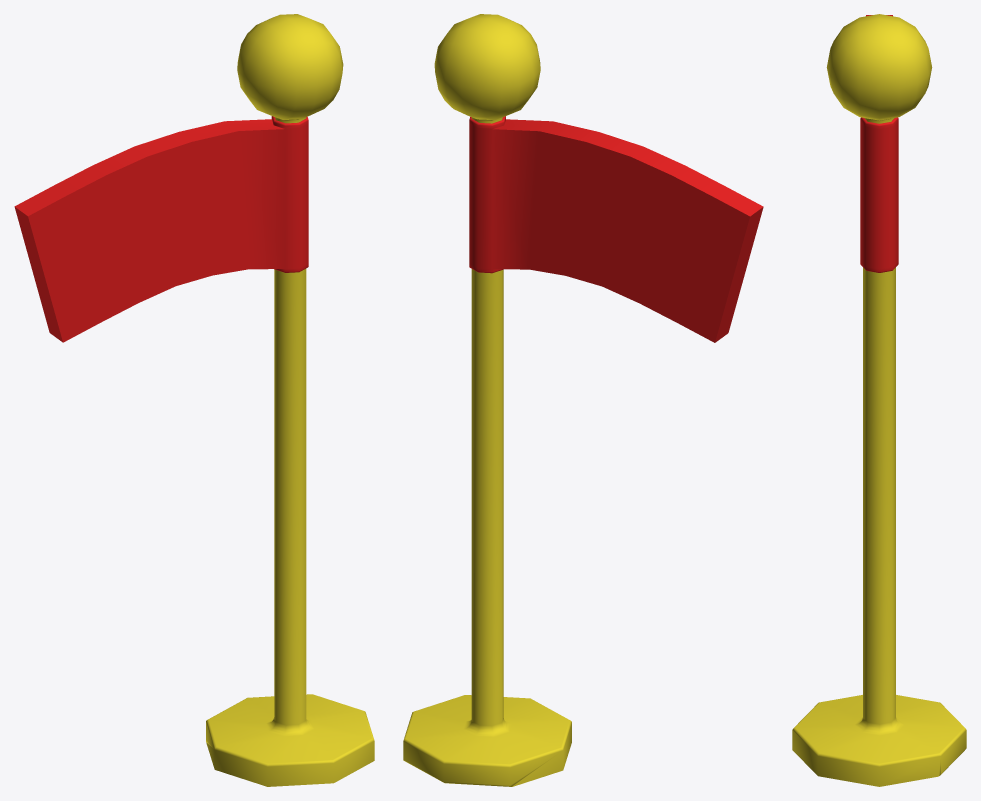
Rendered from Flag.fbx.
3 views of the same model, side by side, from view 1: azimuth 30°, elevation 25°; view 2: azimuth 150°, elevation 25°; view 3: azimuth 270°, elevation 25° (orthographic).
Visible parts, largest first — view 1: Flag; view 2: Flag; view 3: Flag.
Part boxes in pixels (x1,y1,x2,y2): Flag: (14,14,374,786); Flag: (403,14,763,786); Flag: (792,14,966,786).
Size of the model in its own units: 316 by 642 by 139.
